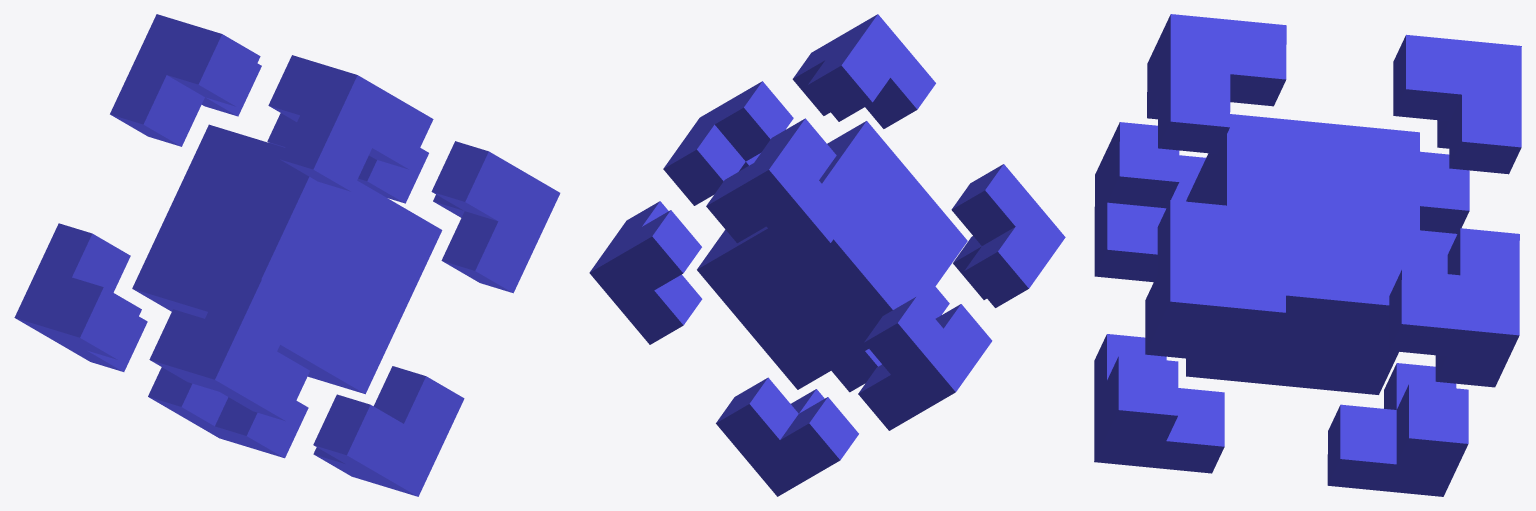
File: enemySou.obj
3 views of the same model, side by side, from view 1: azimuth 30°, elevation 25°; view 2: azimuth 150°, elevation 25°; view 3: azimuth 270°, elevation 25° (orthographic). The views are drawn at different scales.
Visible parts, largest first — view 1: Cube; view 2: Cube; view 3: Cube.
Part boxes in pixels (x1,y1,x2,y2): Cube: [14, 14, 560, 496]; Cube: [589, 14, 1065, 496]; Cube: [1094, 14, 1521, 496].
Size of the model in its own units: 5.3 by 5.48 by 4.34.
1 material, 1 textured.
